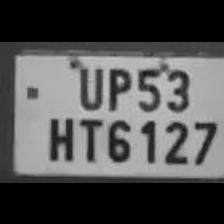1: (134, 114, 160, 162)
2: (160, 116, 190, 164)
3: (161, 62, 191, 110)
5: (132, 62, 162, 110)
6: (102, 114, 134, 162)
7: (187, 116, 217, 166)
H: (42, 110, 76, 162)
P: (102, 62, 132, 110)
T: (74, 113, 104, 164)
U: (71, 61, 103, 109)
